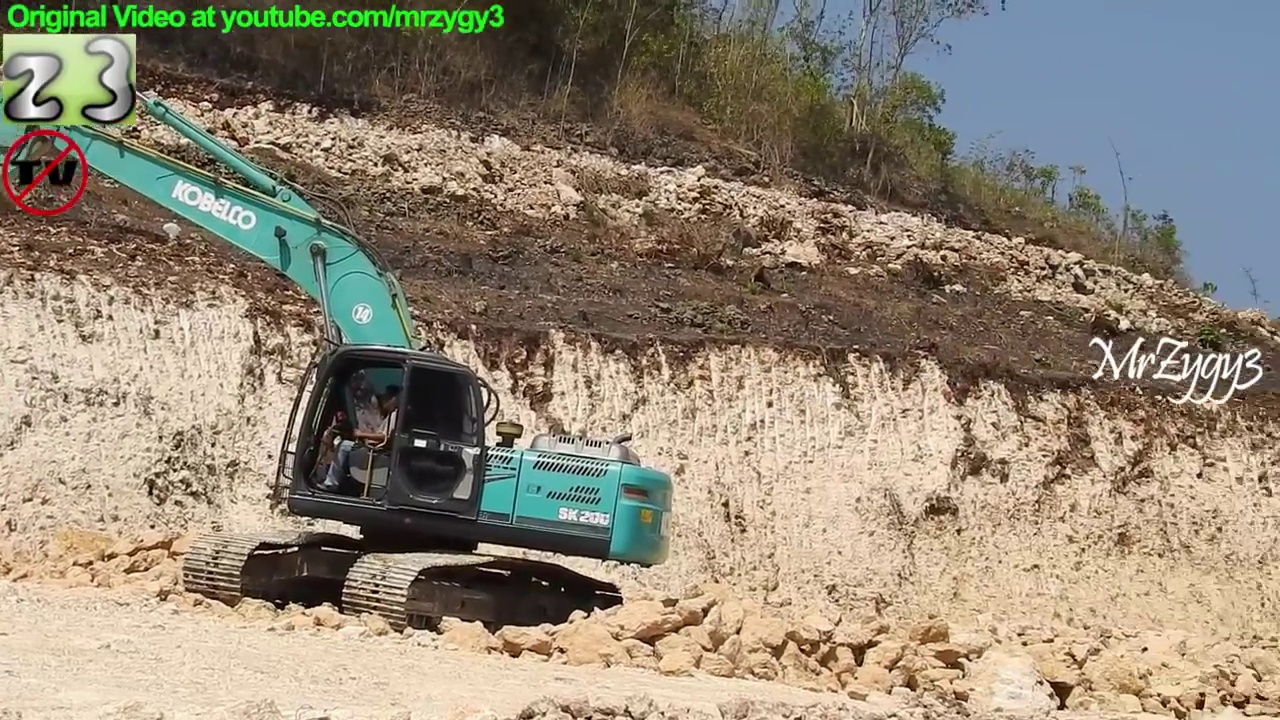excavator: (1, 38, 684, 657)
